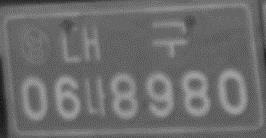0: (217, 67, 250, 115), (20, 75, 50, 123)
6: (52, 74, 82, 122)
8: (180, 69, 212, 119), (109, 71, 140, 121)
9: (145, 71, 176, 120)
나: (82, 73, 108, 121)
대구_D: (58, 17, 192, 64)
영: (17, 26, 53, 65)
